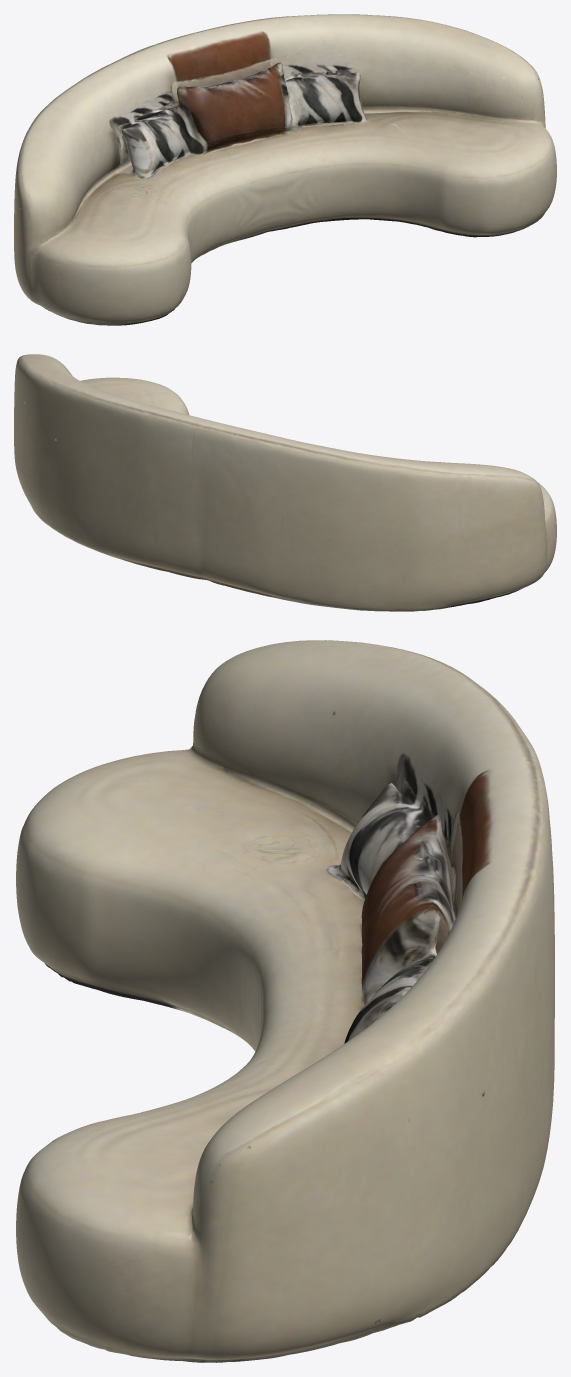
3 views of the same model, one above another, from view 1: azimuth 30°, elevation 25°; view 2: azimuth 150°, elevation 25°; view 3: azimuth 270°, elevation 25° (orthographic). The views are drawn at different scales.
Size of the model in its own units: 2 by 0.5789 by 0.8963.
Materials: 1 (1 with a texture image).
